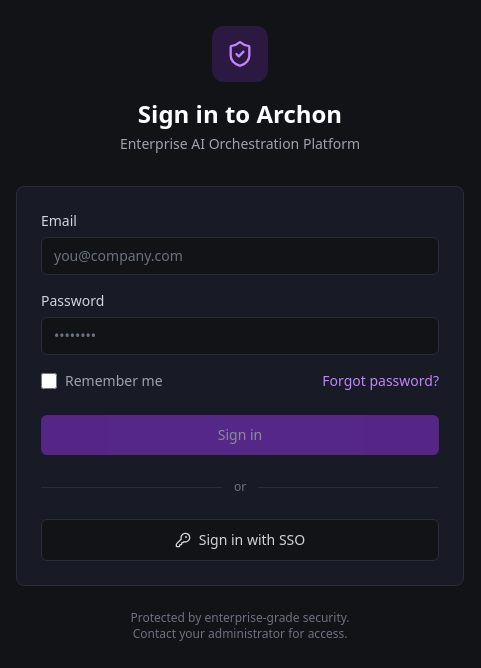
Test case: LoginPage › validates email format on blur
Type "invalid-email" into the field labelled "Email" at [240, 256], box [41,237,439,275]
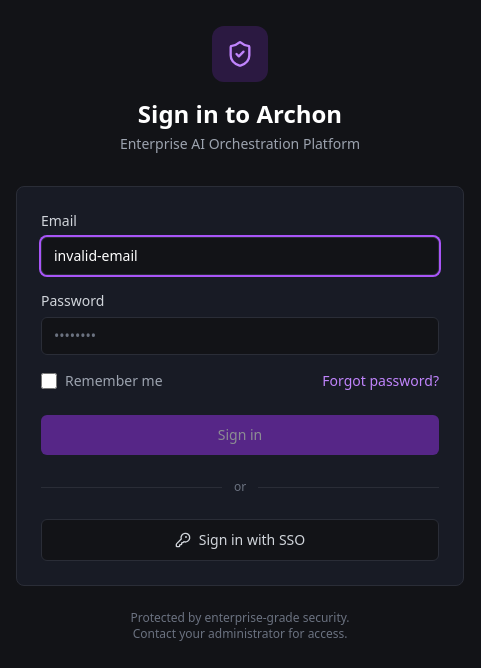
Press Tab
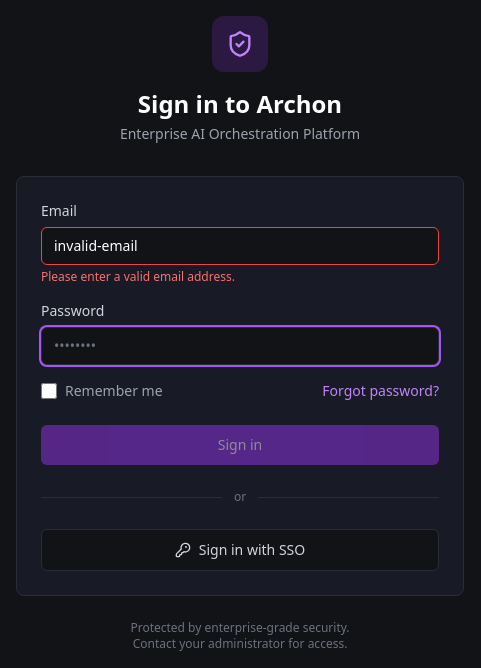
Expected: the text "Please enter a valid email address." is shown, [41,268,235,285]
